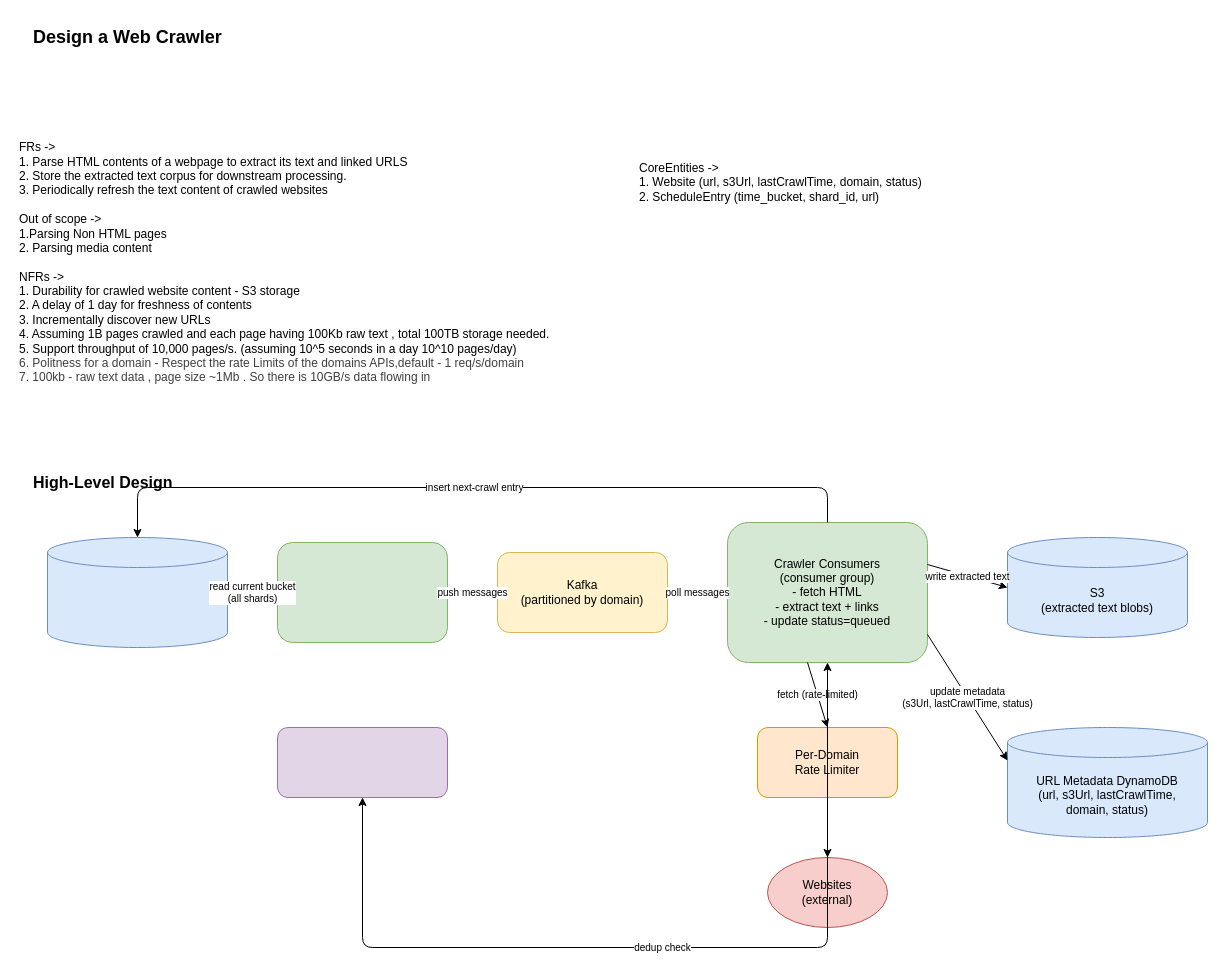
Image size: 1225x974. Some labels were removed from this diagram. Here are the shapes that lost their labels. From the top down, the centre of each, then its label:
At (137,592): "Scheduler DynamoDB PK = (time_bucket, shard_id) items = URLs due at that bucket".
At (362,592): "Scheduler Process (reads current time-bucket shards, pushes to Kafka)".
At (362,762): "Bloom Filter (seen-URL dedup)".
